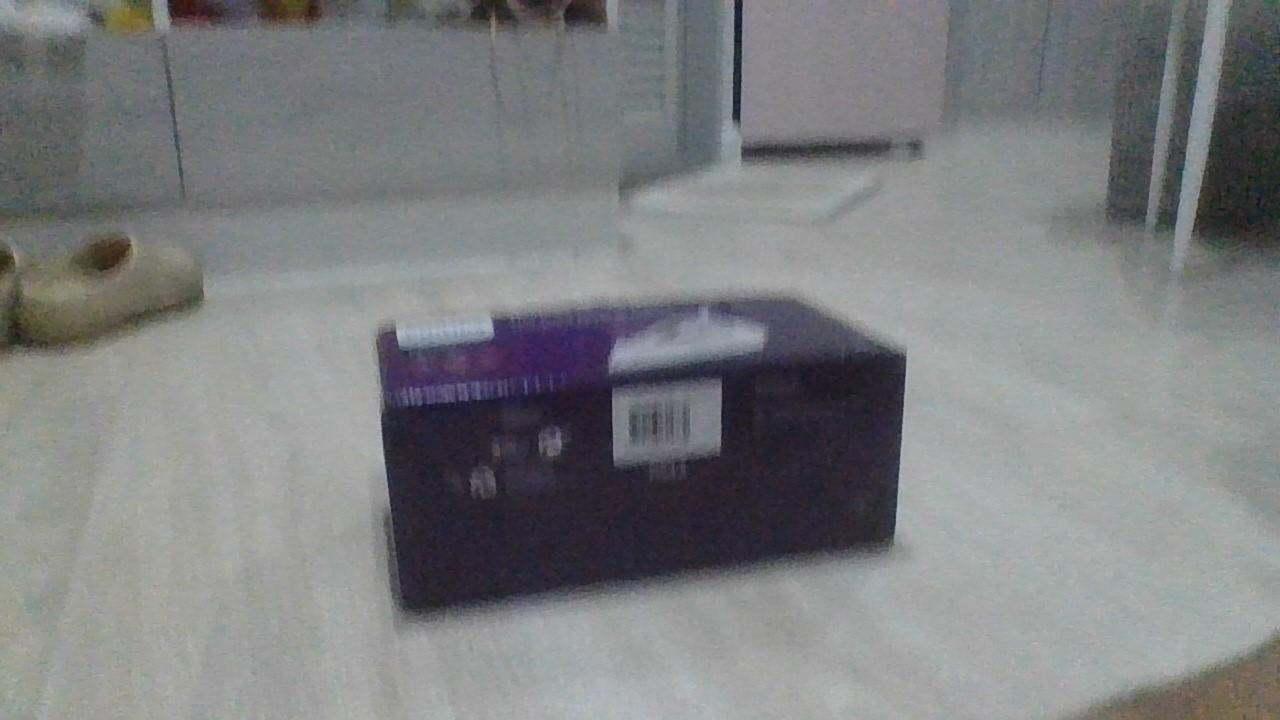IRON: (368, 287, 912, 615)
